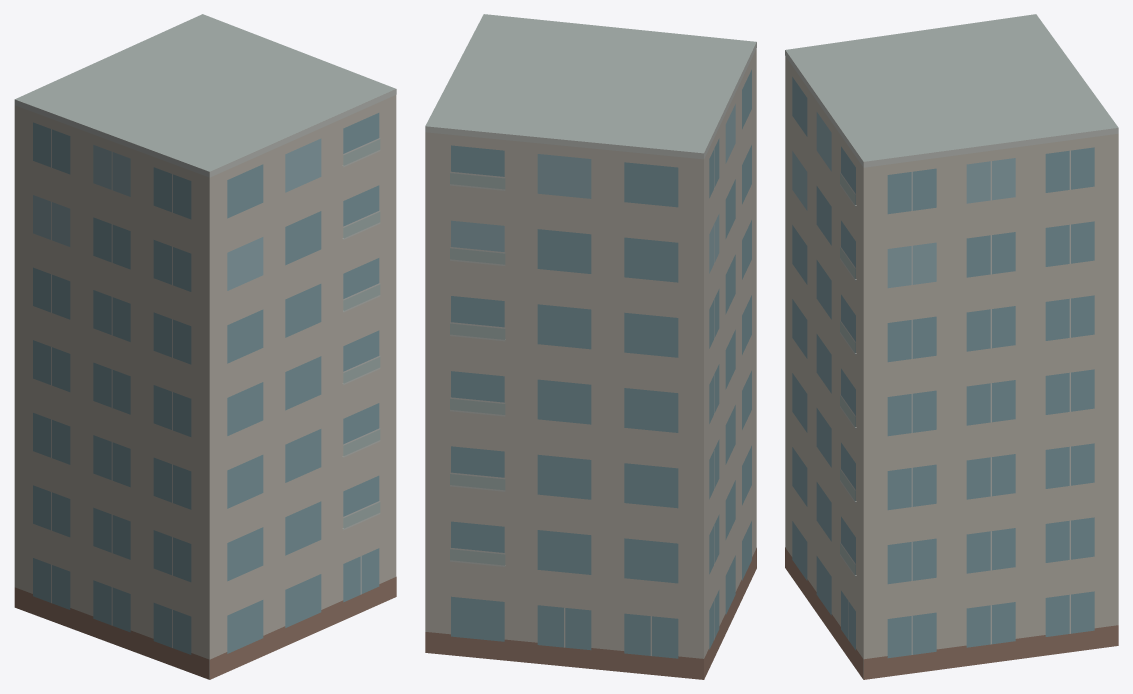
File: survey-upis-32568639.glb
3 renders of one model, left to right at view 1: azimuth 30°, elevation 25°; view 2: azimuth 150°, elevation 25°; view 3: azimuth 270°, elevation 25°, orthographic. The views are drawn at different scales.
Visible parts, largest first — view 1: survey-upis-32568639.tmp; view 2: survey-upis-32568639.tmp; view 3: survey-upis-32568639.tmp.
Boxes of the visible parts, box(x1,y1,x2,y2) form: survey-upis-32568639.tmp: box(14, 14, 396, 679); survey-upis-32568639.tmp: box(425, 14, 756, 679); survey-upis-32568639.tmp: box(785, 14, 1118, 679).
Size of the model in its own units: 13.08 by 21.35 by 12.46.
